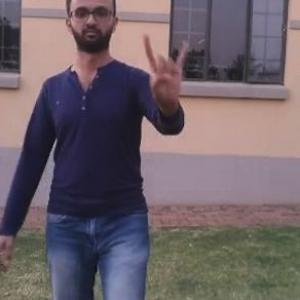takeoff-hand: (136, 28, 194, 100)
